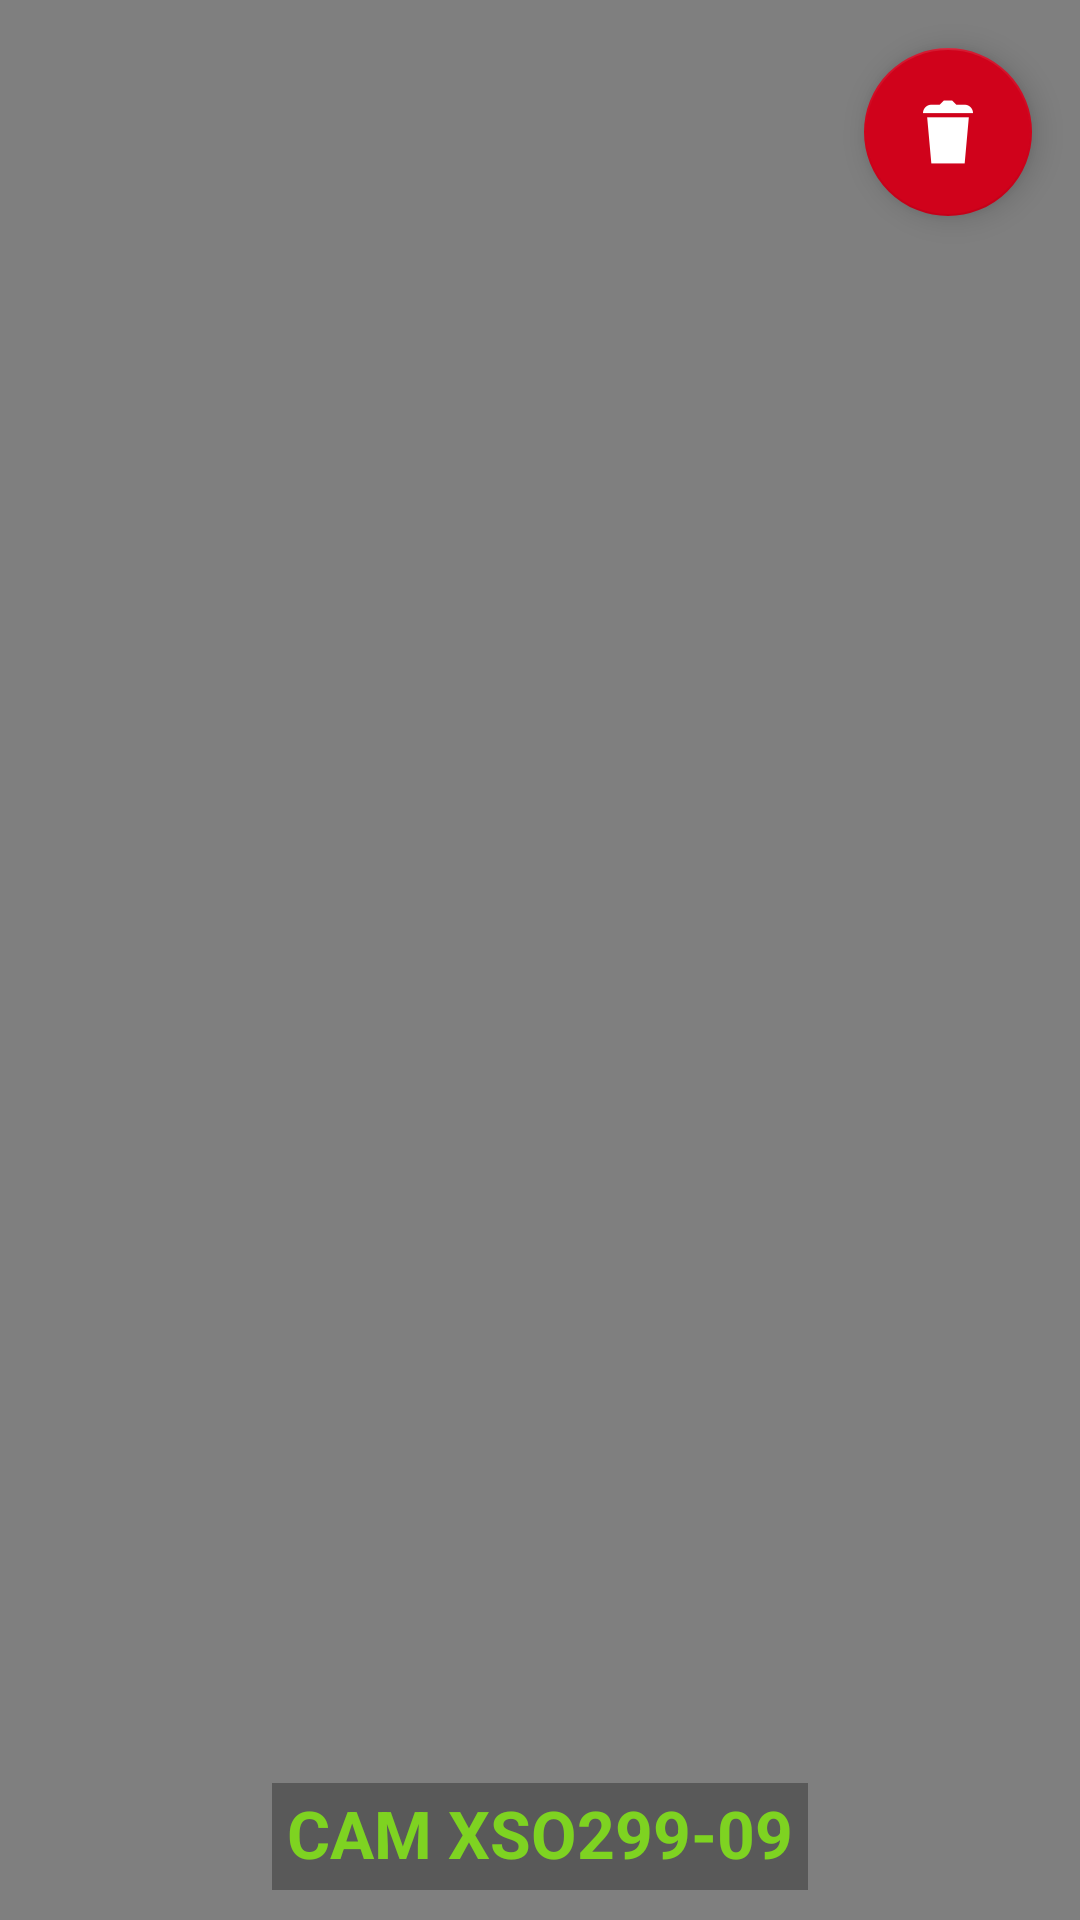

Where to tap for icons on this 1080×1920 app screen, as (x,y):
trash: (948,132)
